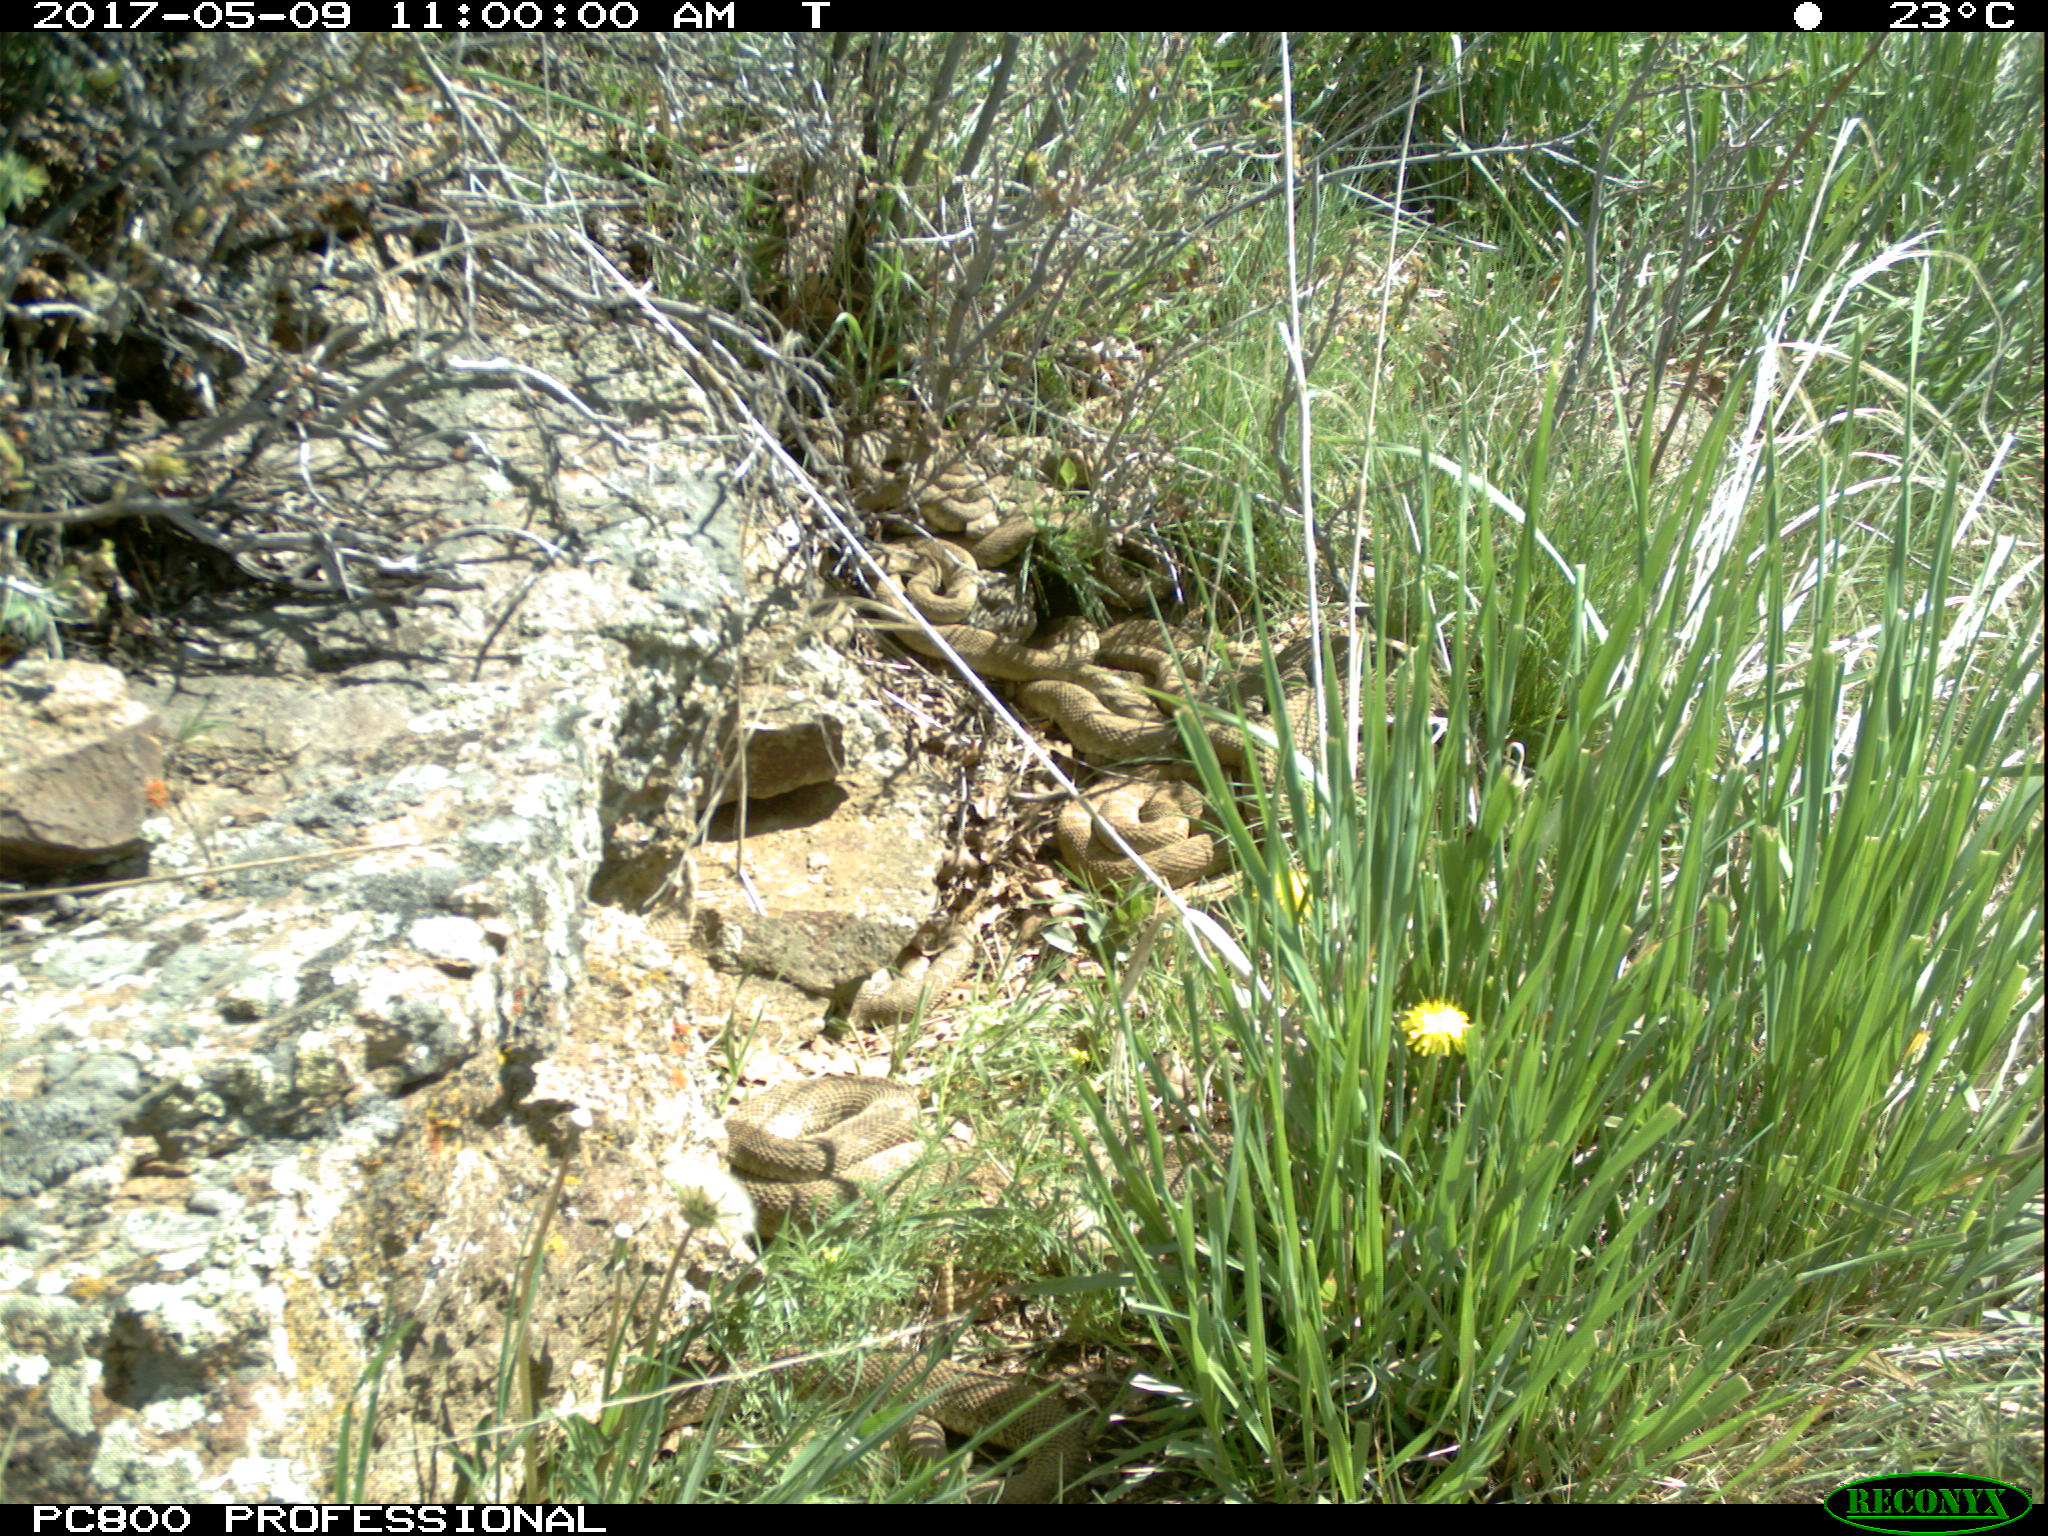snake: (666, 1354, 1079, 1499), (819, 389, 1097, 549), (726, 1071, 959, 1238), (1109, 611, 1442, 728), (855, 534, 1114, 679), (1048, 766, 1268, 894), (1042, 657, 1261, 770), (842, 908, 992, 1021)
